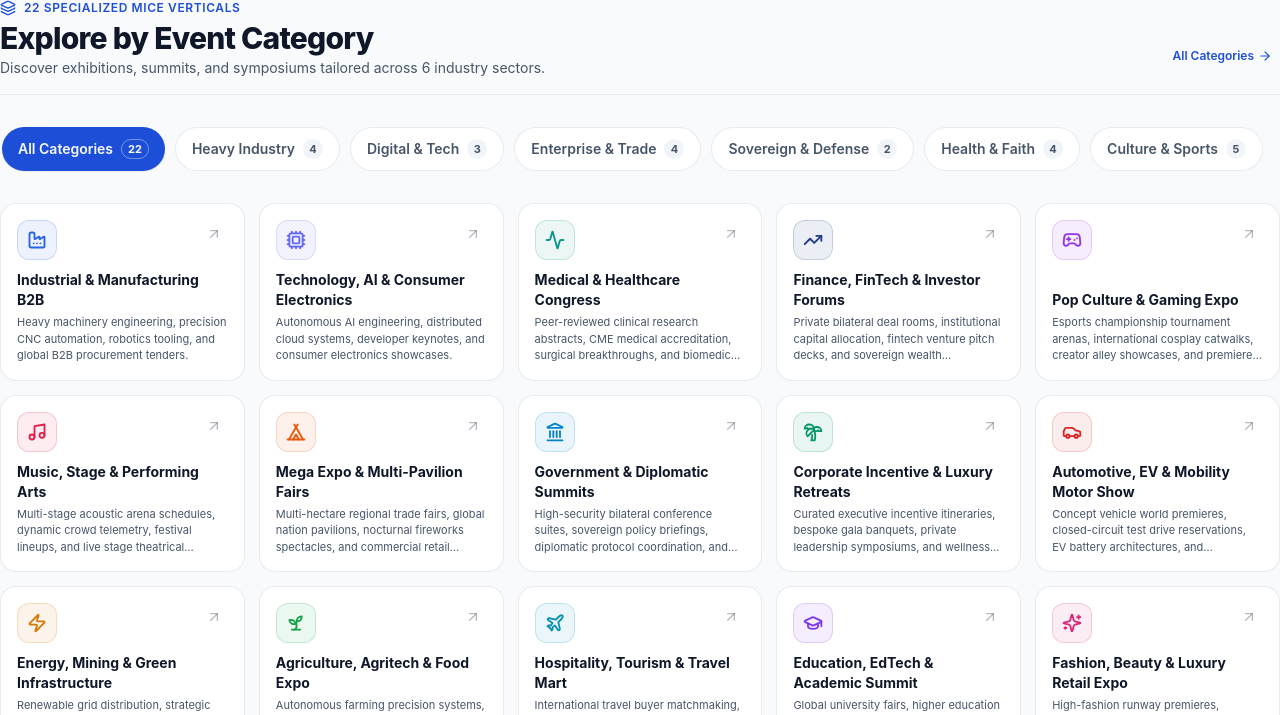
Scenario: EventCategoryPills › restores all 22 categories when Show All button is clicked
Note: Filter to Digital & Tech
Click the tab "Digital & Tech 3" at (427, 149), box [350,127,504,171]
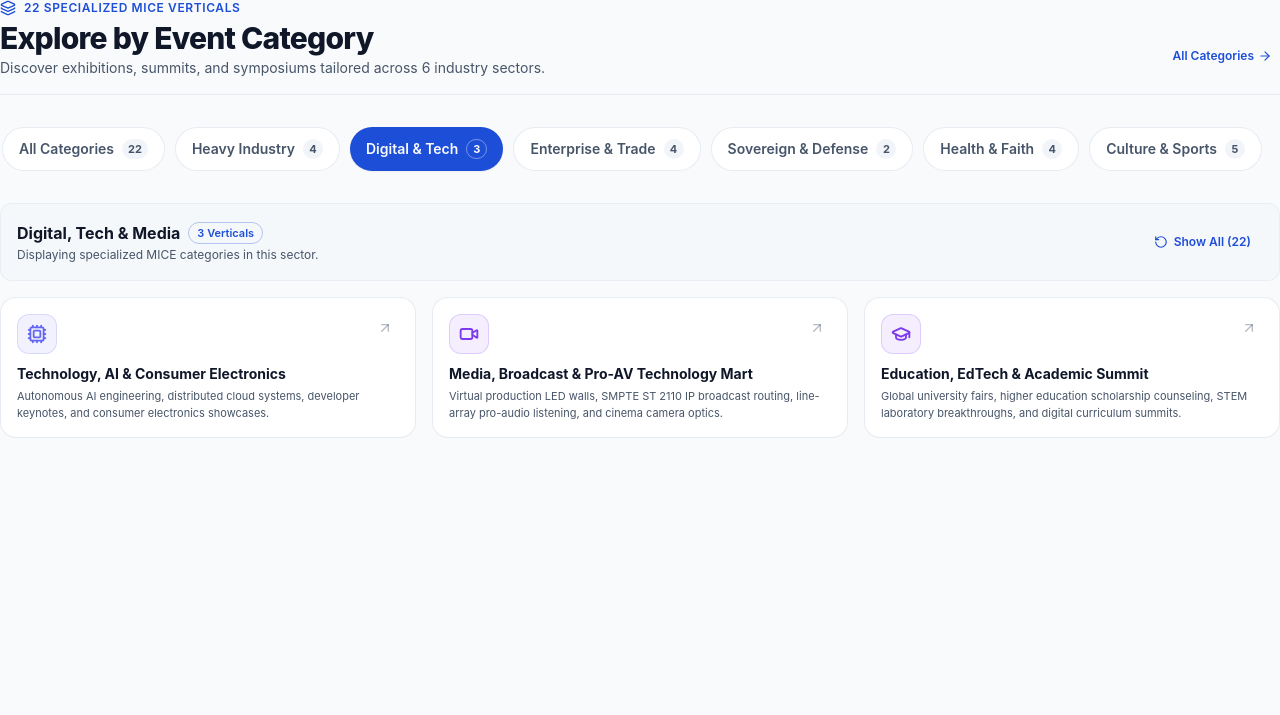
Note: Reset via "Show All (22)" button
Click the button "Show All (22)" at (1202, 242), box [1142,220,1263,264]
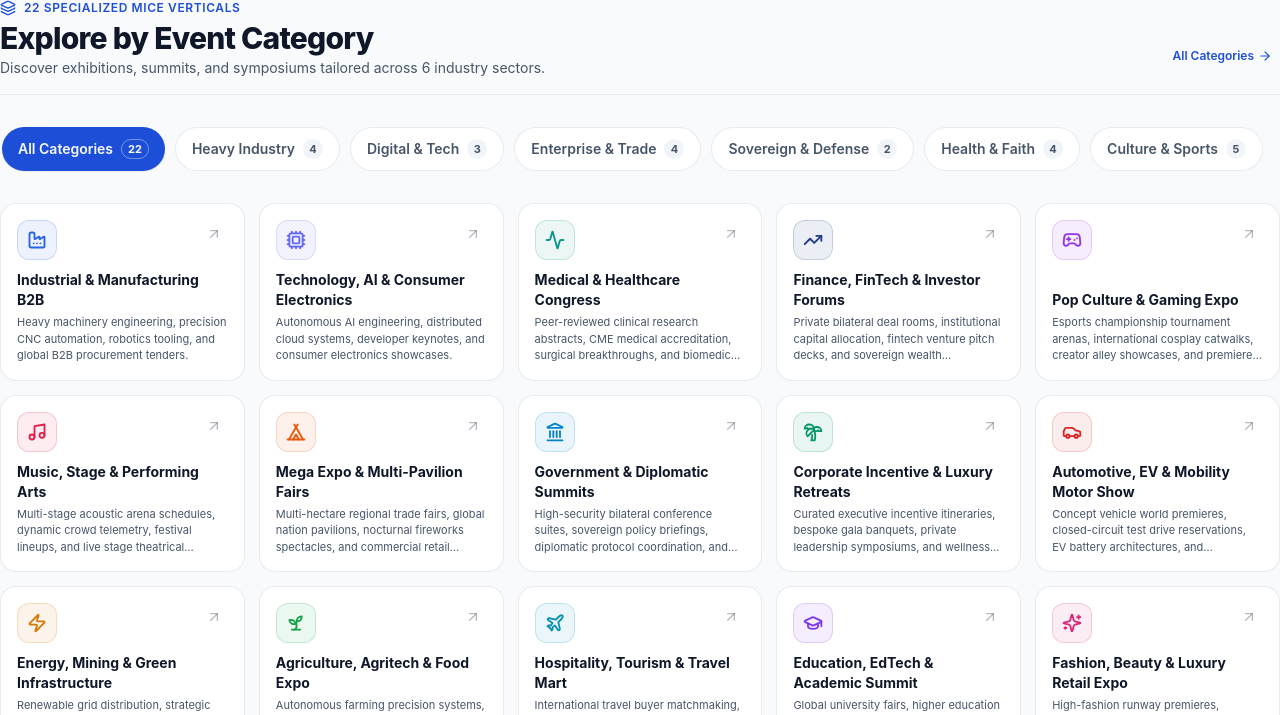
Now the heading "Medical & Healthcare Congress" is shown, box [535,271,680,308]
Now the heading "Pop Culture & Gaming Expo" is shown, box [1052,290,1263,310]
